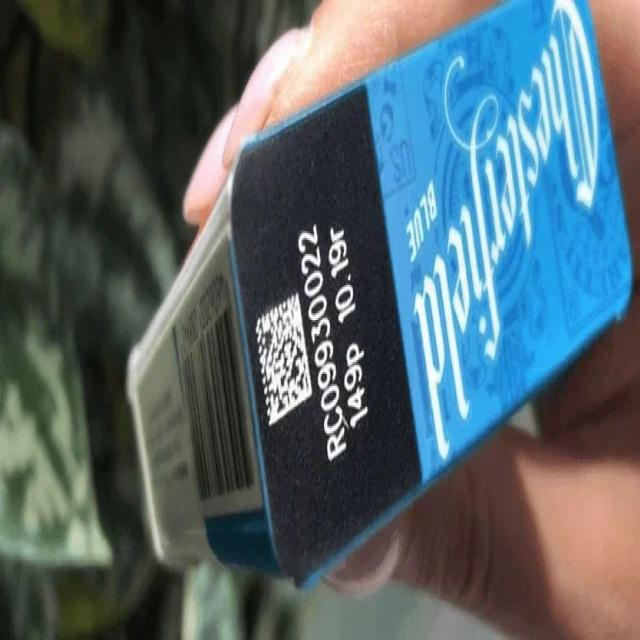datamatrix: (254, 289, 315, 432)
